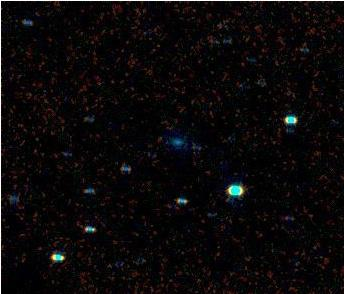star: (148, 126, 178, 156)
